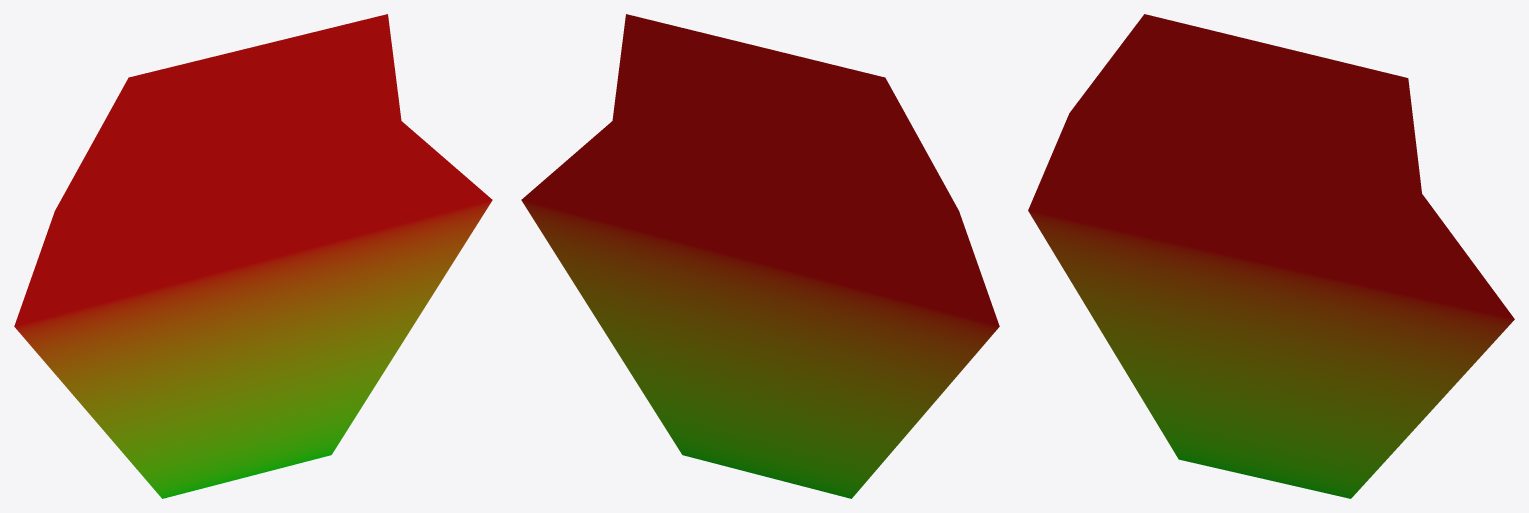
File: Basil_LOD5_Var1_vgpochzia.fbx
The picture shows the model from 3 angles, left to right: view 1: azimuth 30°, elevation 25°; view 2: azimuth 150°, elevation 25°; view 3: azimuth 330°, elevation 25°; orthographic projection.
Visible parts, largest first — view 1: _ahm2_Var1_LOD5; view 2: _ahm2_Var1_LOD5; view 3: _ahm2_Var1_LOD5.
Boxes of the visible parts, <box> form: _ahm2_Var1_LOD5: <box>14,14,492,498</box>; _ahm2_Var1_LOD5: <box>521,14,999,498</box>; _ahm2_Var1_LOD5: <box>1028,14,1514,498</box>.
Size of the model in its own units: 39.78 by 34.15 by 6.97e-06.
